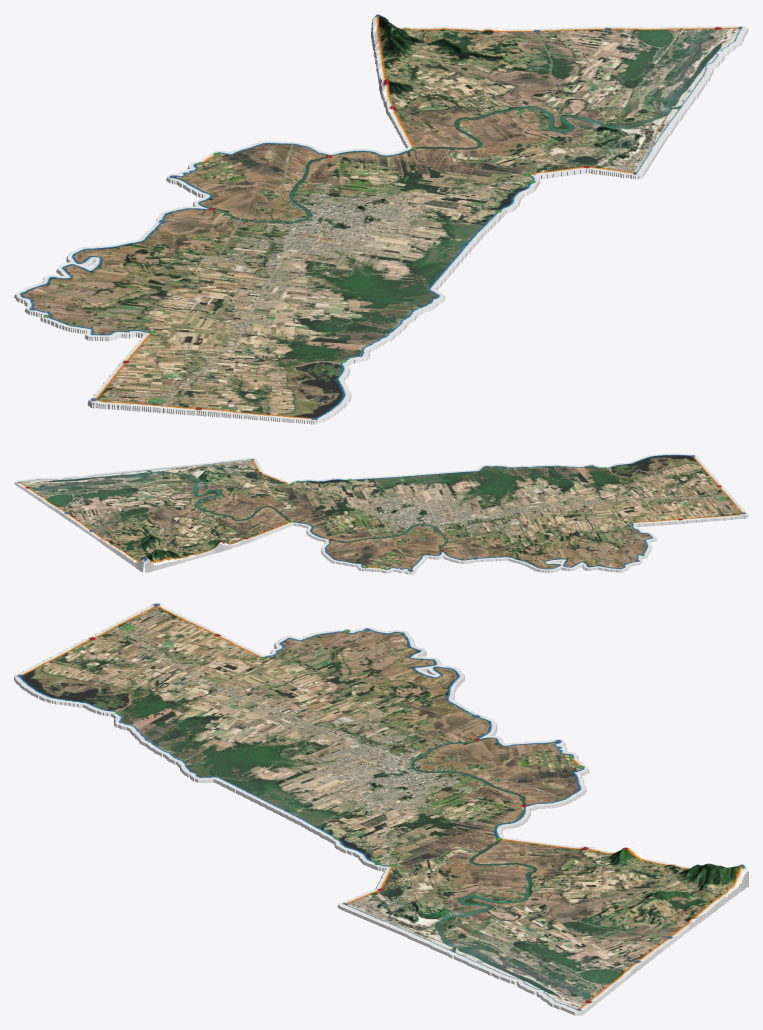
The picture shows the model from 3 angles, top to bottom: view 1: azimuth 30°, elevation 25°; view 2: azimuth 150°, elevation 25°; view 3: azimuth 270°, elevation 25°; orthographic projection. The views are drawn at different scales.
Bounding box in the file's own units: 0.9996 × 0.0228 × 0.7608.
Materials: 1 (1 with a texture image).
